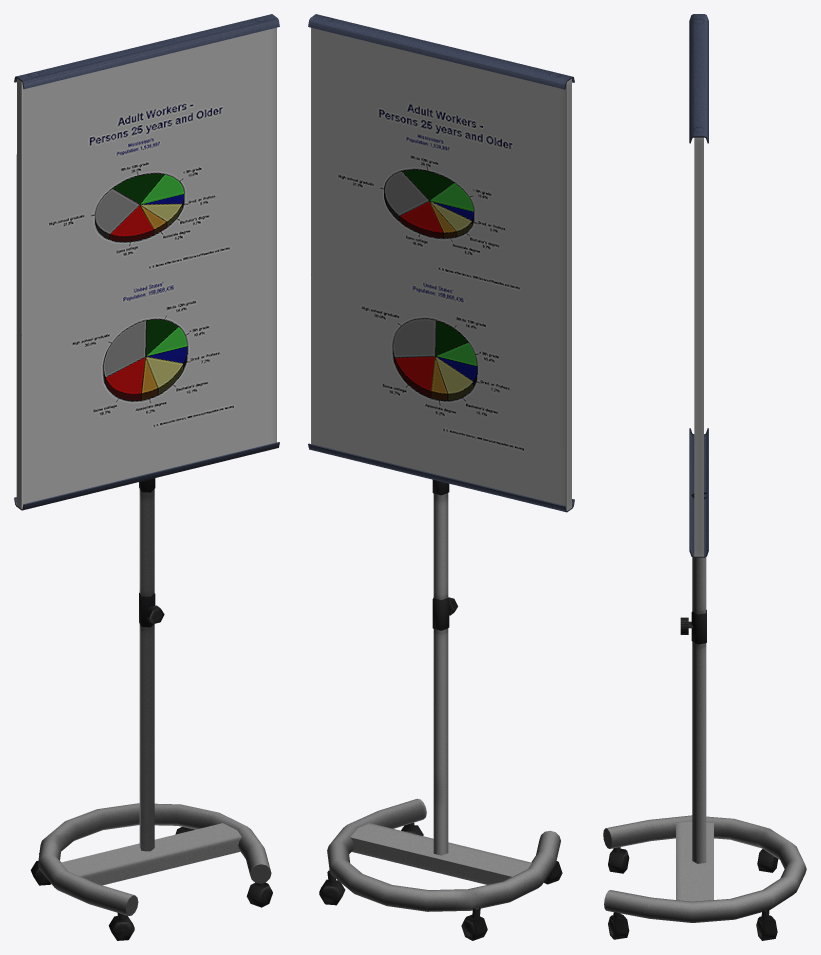
File: presentation_stand-1.FBX
3 views of the same model, side by side, from view 1: azimuth 30°, elevation 25°; view 2: azimuth 150°, elevation 25°; view 3: azimuth 270°, elevation 25° (orthographic). The views are drawn at different scales.
Visible parts, largest first — view 1: presentation_stand-1_LOD0; view 2: presentation_stand-1_LOD0; view 3: presentation_stand-1_LOD0.
Part boxes in pixels (box(x1,y1,x2,y2)): presentation_stand-1_LOD0: box(14, 14, 279, 940); presentation_stand-1_LOD0: box(308, 14, 574, 940); presentation_stand-1_LOD0: box(603, 14, 806, 940).
Size of what is drawn, in the model's own units: 26.1 by 82.26 by 18.35.
